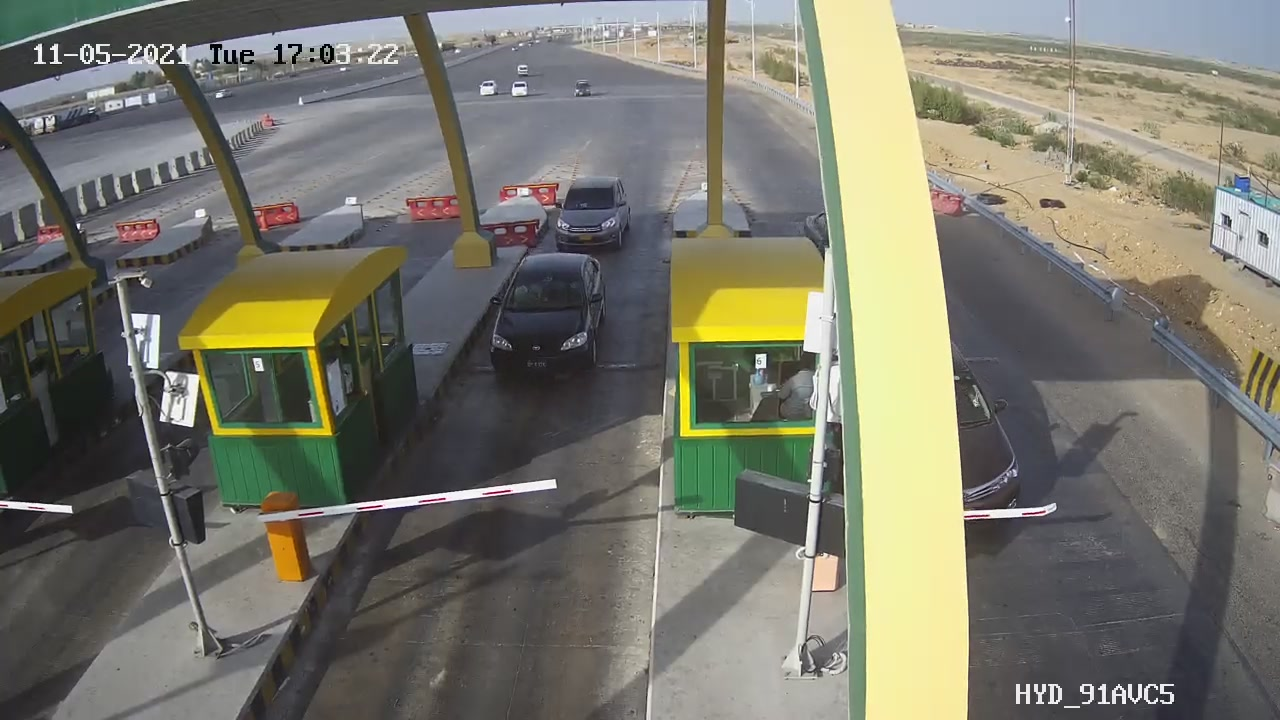F1: (472, 244, 638, 396), (543, 166, 653, 272)
